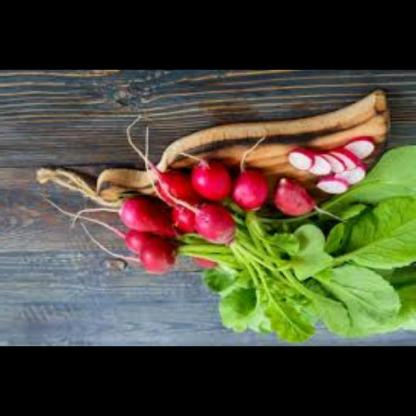rediska: (288, 127, 383, 198), (150, 171, 203, 241), (113, 196, 185, 245), (190, 153, 236, 203), (192, 202, 242, 247), (231, 167, 271, 216), (134, 238, 180, 278), (274, 176, 314, 221), (118, 227, 154, 257)
